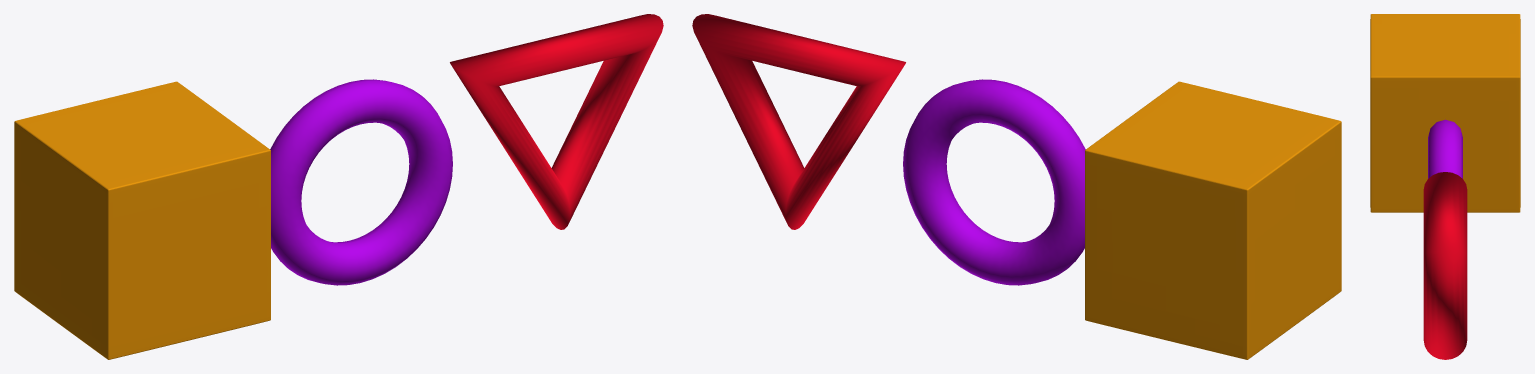
The model's file is prim.glb.
3 views of the same model, side by side, from view 1: azimuth 30°, elevation 25°; view 2: azimuth 150°, elevation 25°; view 3: azimuth 270°, elevation 25° (orthographic). The views are drawn at different scales.
Visible parts, largest first — view 1: export; view 2: export; view 3: export.
Boxes of the visible parts, bbox=[...] form: export: bbox=[14, 14, 663, 359]; export: bbox=[692, 14, 1341, 359]; export: bbox=[1370, 14, 1520, 359].
Size of the model in its own units: 8.79 by 2.78 by 2.4.
